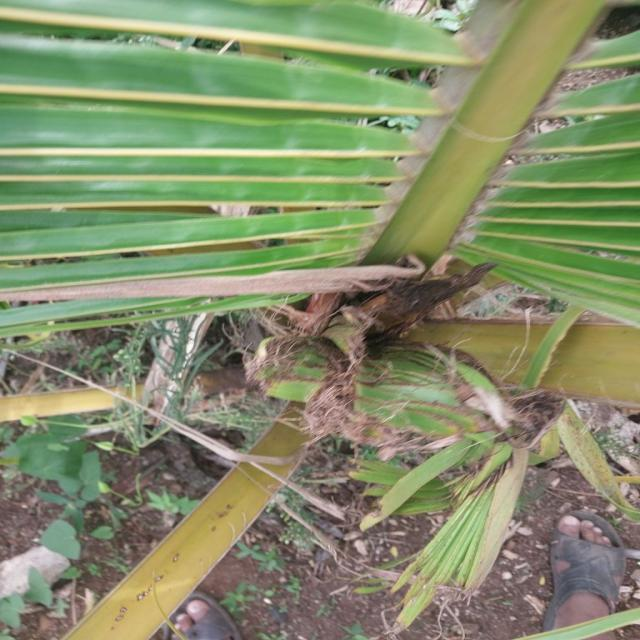bud rot: (268, 260, 572, 450)
